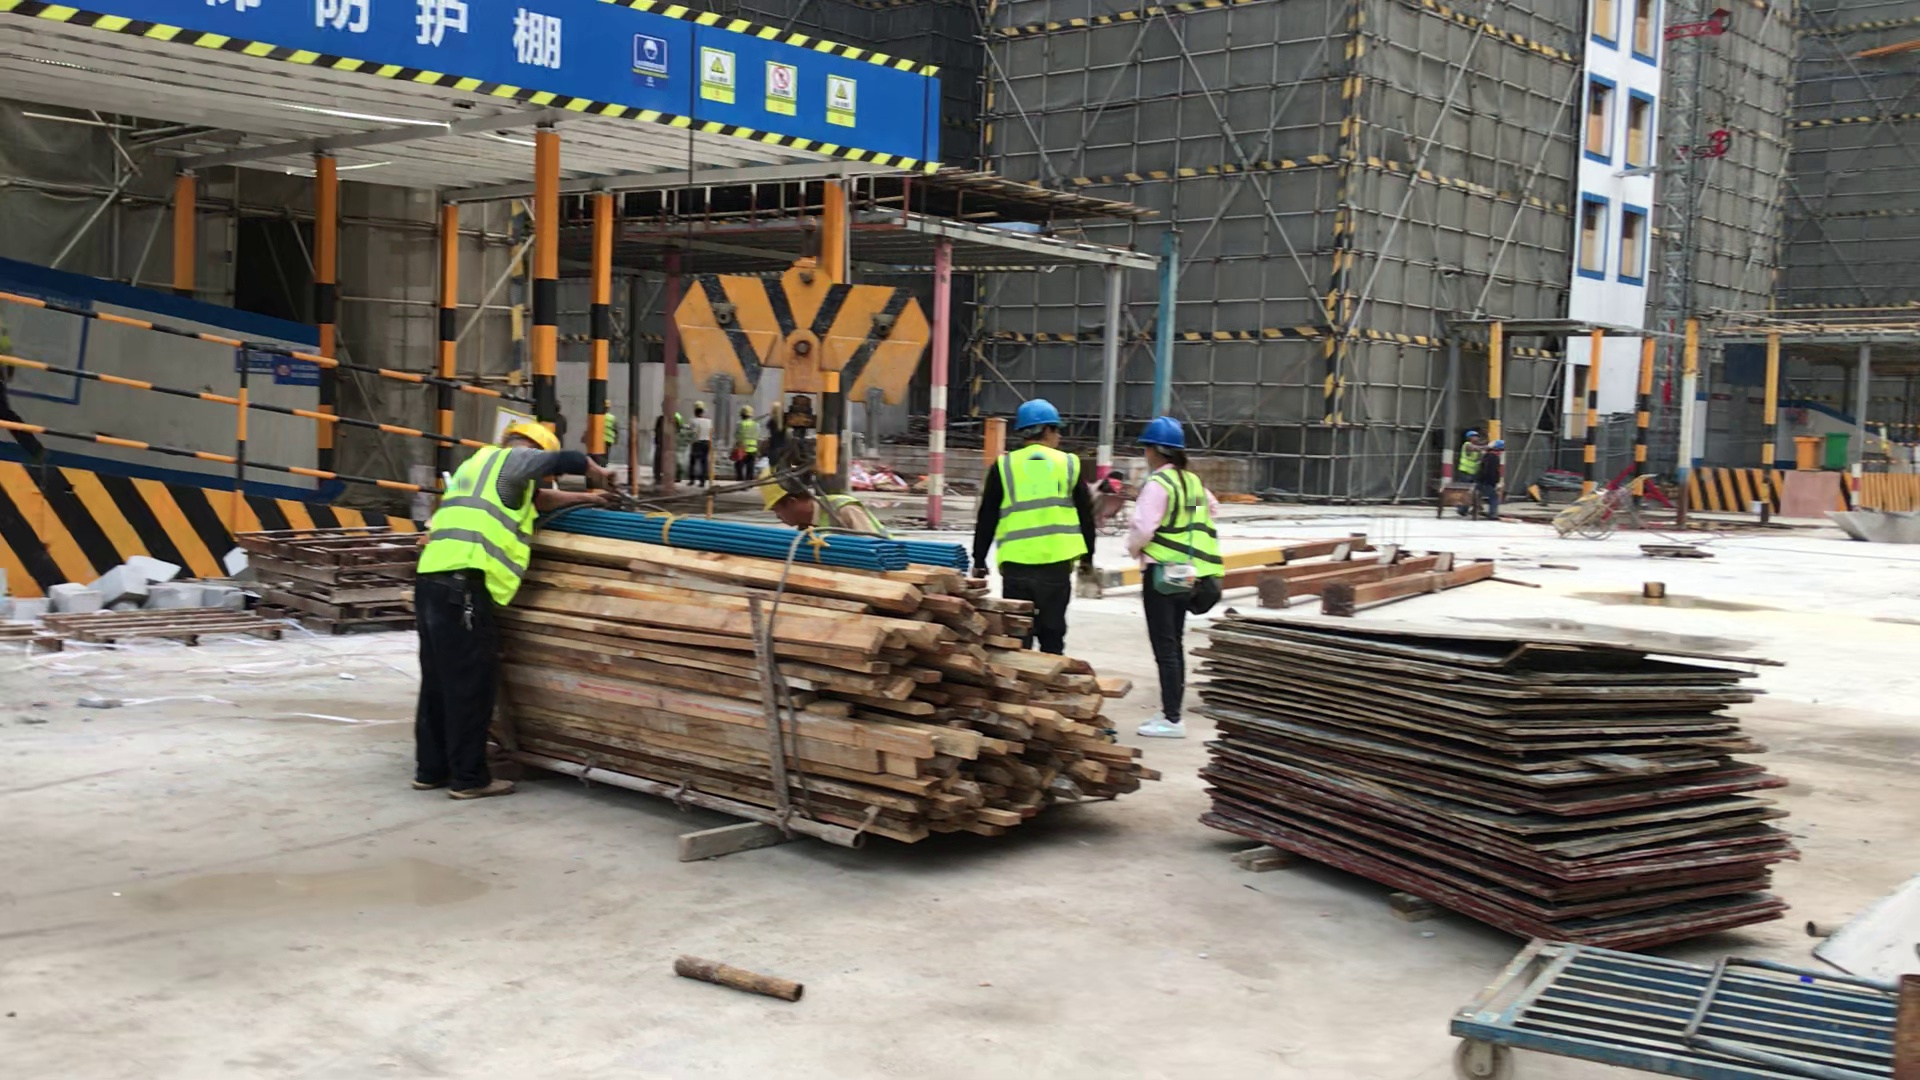board: (1207, 609, 1785, 963)
handcart: (1550, 475, 1656, 551)
helmet: (495, 415, 564, 461), (1010, 398, 1065, 435), (1132, 418, 1188, 453), (738, 404, 760, 420), (1488, 439, 1506, 453), (691, 401, 708, 414), (1464, 430, 1478, 440), (605, 399, 614, 409)
hook: (653, 241, 936, 430)
hopper: (1822, 505, 1920, 545)
person: (417, 411, 618, 806), (1122, 411, 1226, 746), (977, 393, 1092, 658), (758, 480, 895, 538), (730, 404, 761, 483), (1479, 437, 1507, 520), (688, 400, 714, 489), (1453, 428, 1477, 521)
vest: (423, 450, 533, 598), (993, 447, 1087, 571), (1149, 463, 1235, 585), (733, 421, 757, 453), (1460, 441, 1476, 478), (598, 413, 613, 448)
wood: (508, 488, 1129, 884)
